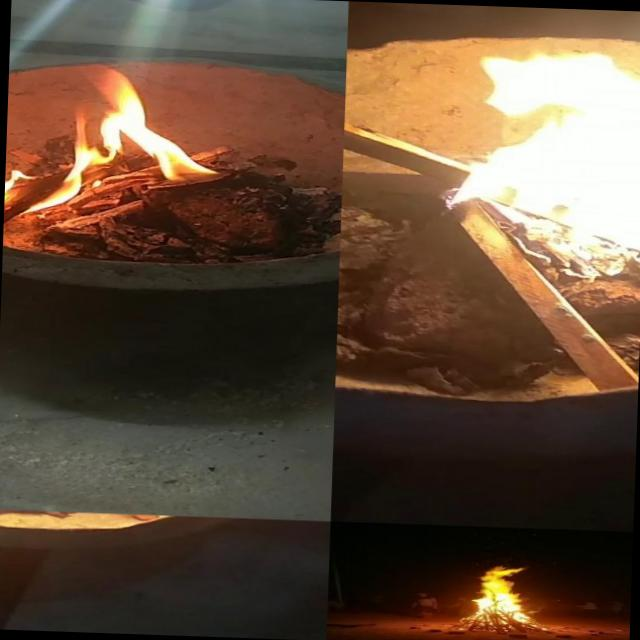fire: (433, 9, 640, 265), (3, 70, 207, 236), (463, 558, 549, 624)
